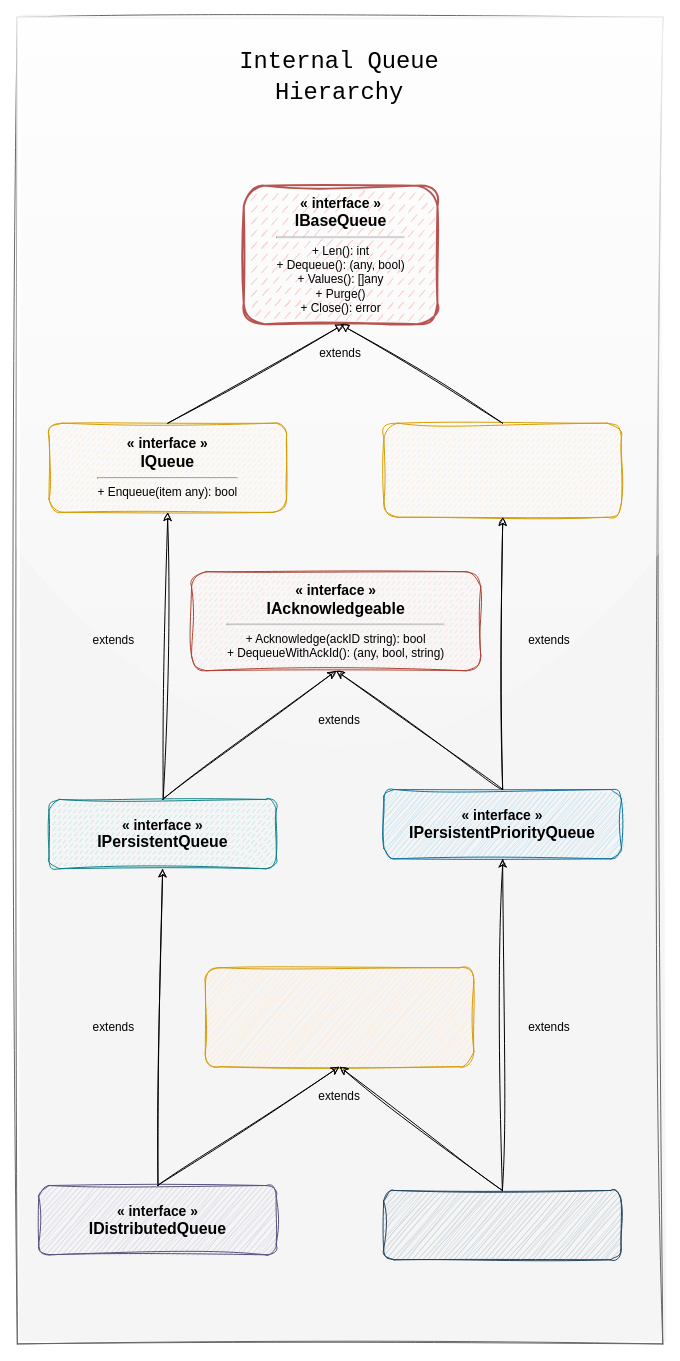
The diagram is 680 pixels wide and 1361 high, and some of its shapes have lost their labels. The shapes that lost their labels are listed below. From the top down, each one's centre as x and y in pixels, then its label:
At [502,469]: "« interface » IPriorityQueue + Enqueue(item any, priority int): bool".
At [339,1017]: "« interface » ISubscribable + Subscribe(func(action string))".
At [502,1224]: "« interface » IDistributedPriorityQueue".
